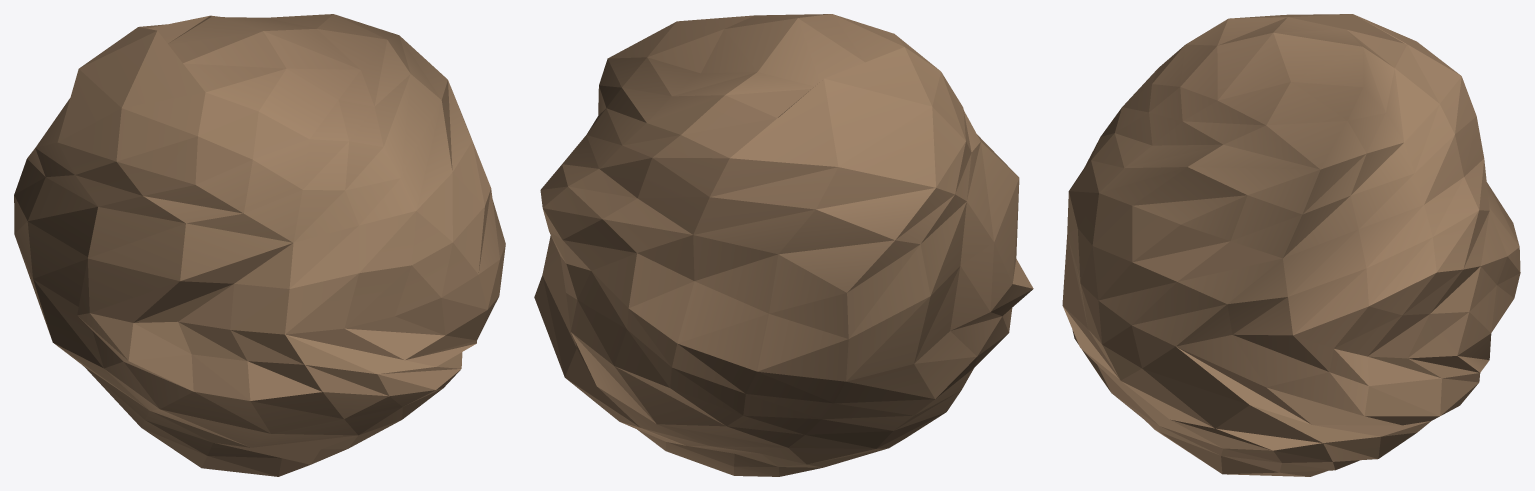
File: Planeta-noring.fbx
3 renders of one model, left to right at view 1: azimuth 30°, elevation 25°; view 2: azimuth 150°, elevation 25°; view 3: azimuth 270°, elevation 25°, orthographic. The views are drawn at different scales.
Visible parts, largest first — view 1: Icosphere; view 2: Icosphere; view 3: Icosphere.
Part boxes in pixels (x1,y1,x2,y2): Icosphere: (14, 14, 505, 476); Icosphere: (534, 14, 1033, 476); Icosphere: (1062, 14, 1520, 476).
Bounding box in the file's own units: 278 × 277 × 275.
